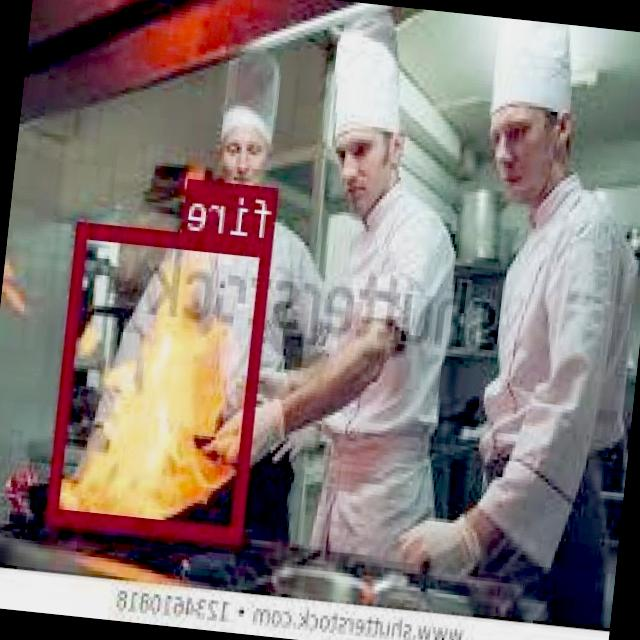fire: (49, 218, 274, 540)
